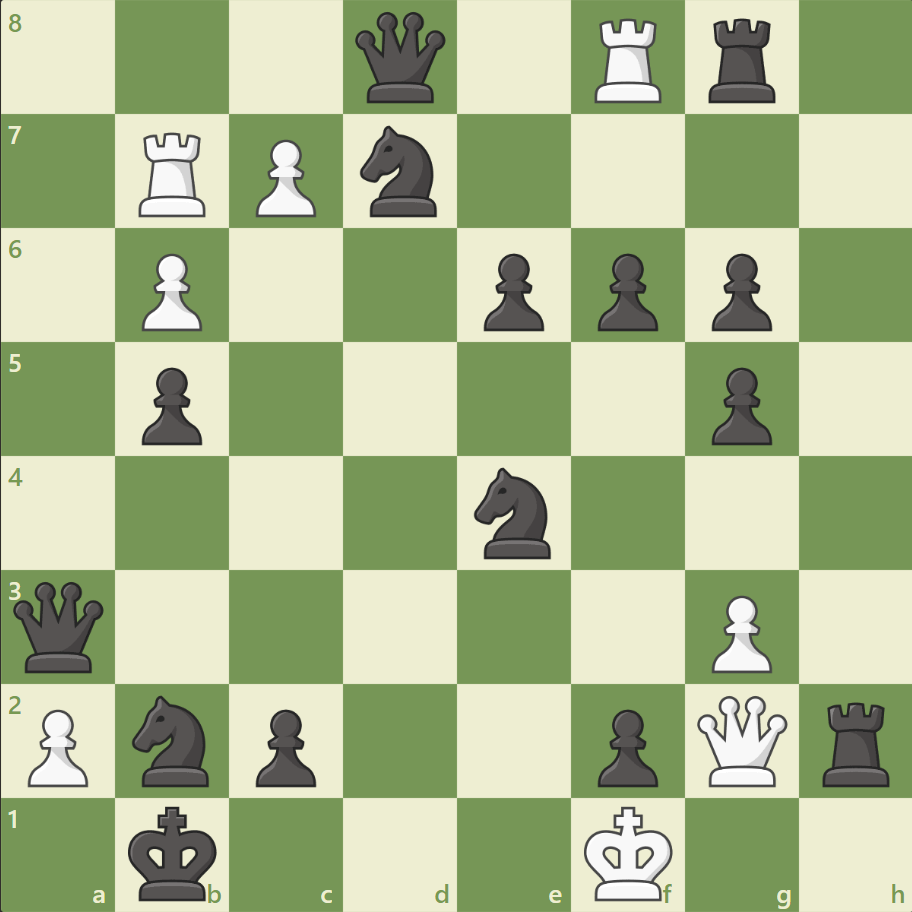K: (579, 798, 679, 906)
P: (247, 132, 322, 223), (133, 246, 208, 337), (701, 586, 776, 677), (20, 700, 95, 791)
Q: (691, 690, 790, 789)
R: (587, 12, 670, 109), (133, 125, 215, 222)
k: (124, 798, 224, 906)
n: (124, 688, 222, 791), (351, 121, 449, 223), (465, 461, 562, 564)
p: (474, 246, 549, 337), (701, 246, 776, 337), (133, 359, 208, 450), (701, 359, 776, 450), (247, 700, 322, 791), (588, 246, 662, 337), (588, 700, 662, 791)
q: (10, 576, 109, 676), (351, 9, 450, 108)
r: (700, 12, 783, 109), (814, 693, 897, 790)
